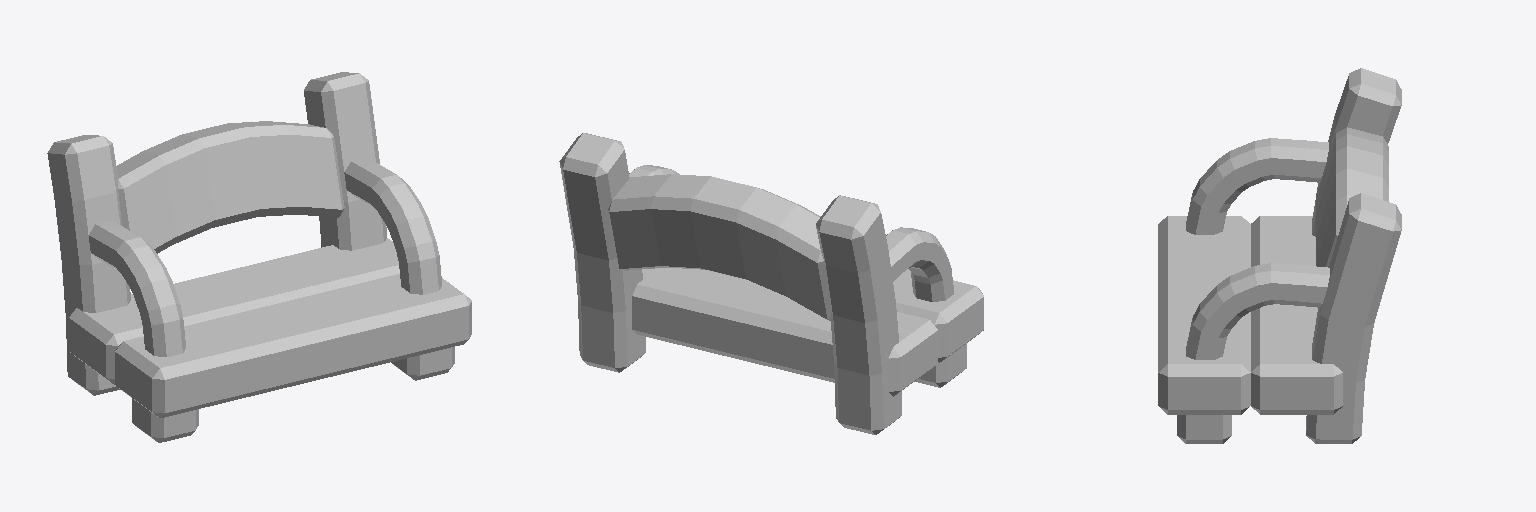
The model's file is bench_A.obj.
3 views of the same model, side by side, from view 1: azimuth 30°, elevation 25°; view 2: azimuth 150°, elevation 25°; view 3: azimuth 270°, elevation 25° (orthographic).
Visible parts, largest first — view 1: bench_A; view 2: bench_A; view 3: bench_A.
Part boxes in pixels (x1,y1,x2,y2): bench_A: (47,72,471,442); bench_A: (559,133,983,434); bench_A: (1158,68,1401,443).
Bounding box in the file's own units: 2 × 1.41 × 1.32.